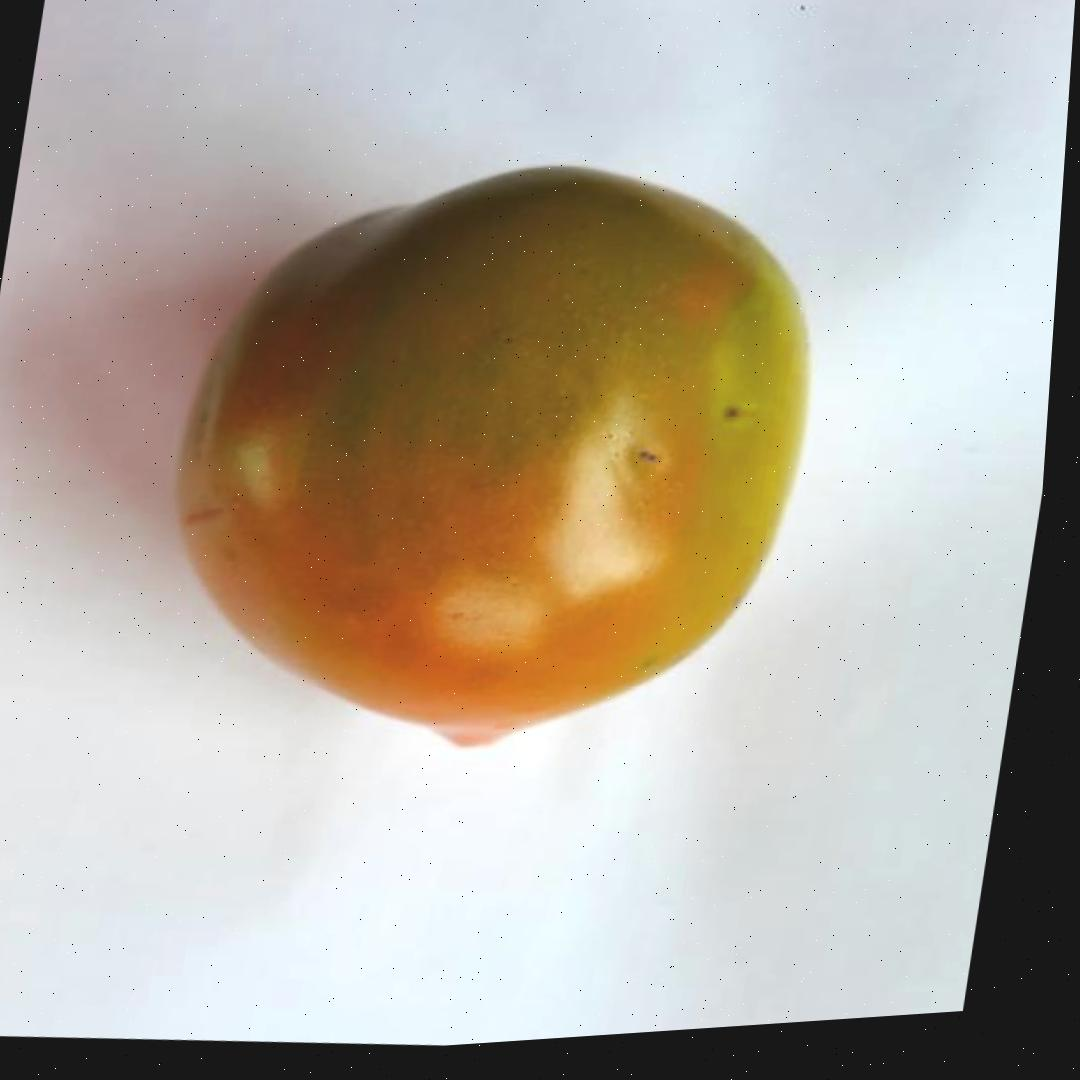setengah_matang: (123, 112, 866, 803)
